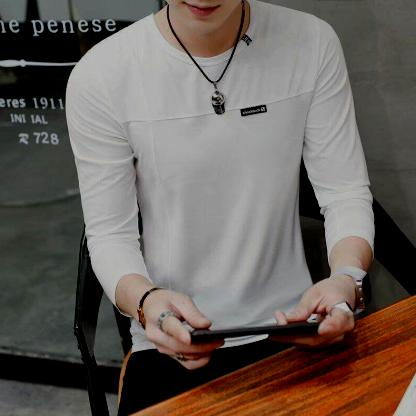dress: (68, 2, 373, 346)
